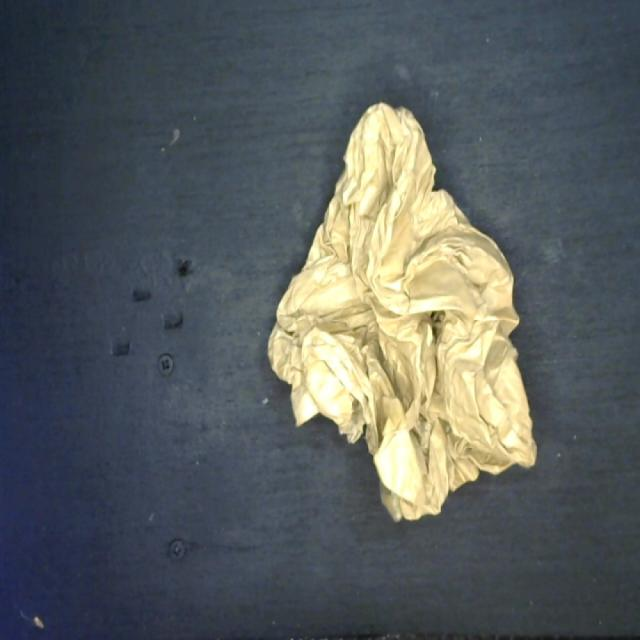biodegradable: (263, 99, 542, 526)
